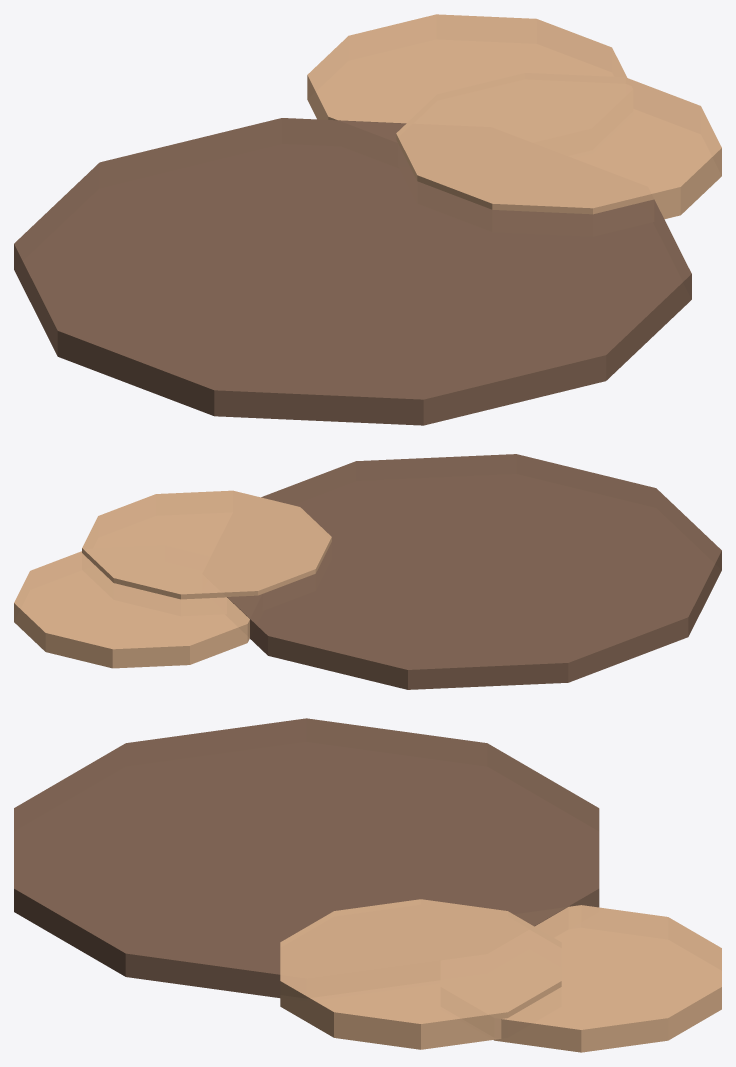
The model's file is Mess4.fbx.
3 renders of one model, top to bottom at view 1: azimuth 30°, elevation 25°; view 2: azimuth 150°, elevation 25°; view 3: azimuth 270°, elevation 25°, orthographic. The views are drawn at different scales.
Visible parts, largest first — view 1: pasted__group_pasted__pasted__pCylinder1; view 2: pasted__group_pasted__pasted__pCylinder1; view 3: pasted__group_pasted__pasted__pCylinder1.
Boxes of the visible parts, bbox=[...] form: pasted__group_pasted__pasted__pCylinder1: bbox=[14, 14, 721, 425]; pasted__group_pasted__pasted__pCylinder1: bbox=[14, 454, 721, 689]; pasted__group_pasted__pasted__pCylinder1: bbox=[14, 718, 721, 1052].
Bounding box in the file's own units: 26.12 × 1.13 × 25.11.
